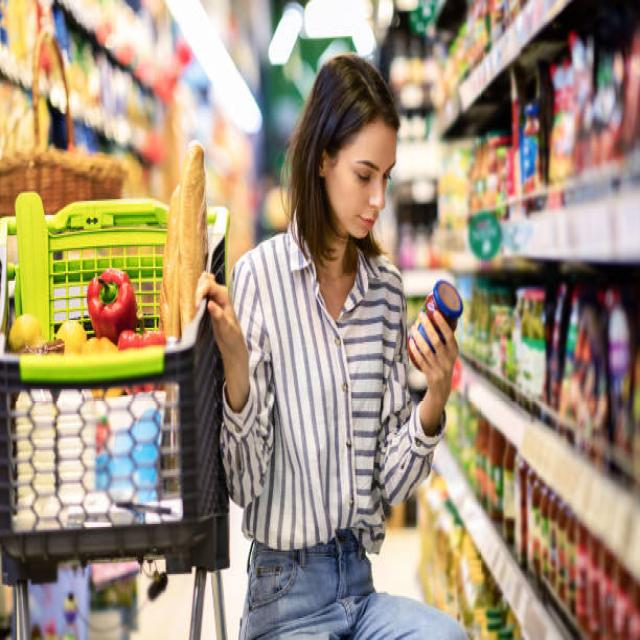article: (421, 279, 462, 339), (413, 320, 431, 345)
hands: (195, 271, 248, 408), (411, 312, 457, 435)
person: (192, 55, 463, 637)
